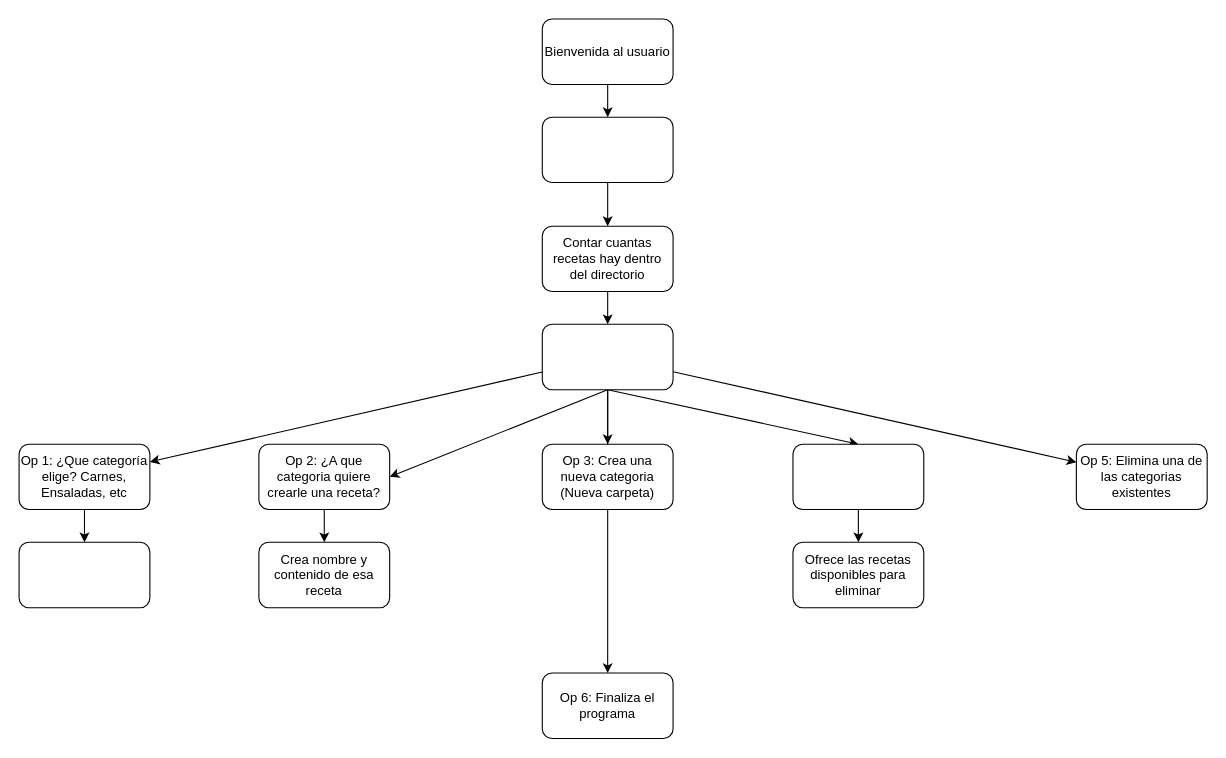
The diagram is 1226 pixels wide and 758 high, and some of its shapes have lost their labels. Each missing label, with the centre of its shape:
"Elegir opciones (de 1 a 6)" belongs at [607,356].
"Mostrar ruta de acceso al directorio con recetas" belongs at [607,149].
"Ofrece Recetas disponibles y le pregunta cual queire leer y la muestra" belongs at [84,574].
"Op 4: ¿Que categoría elige?" belongs at [858,476].
